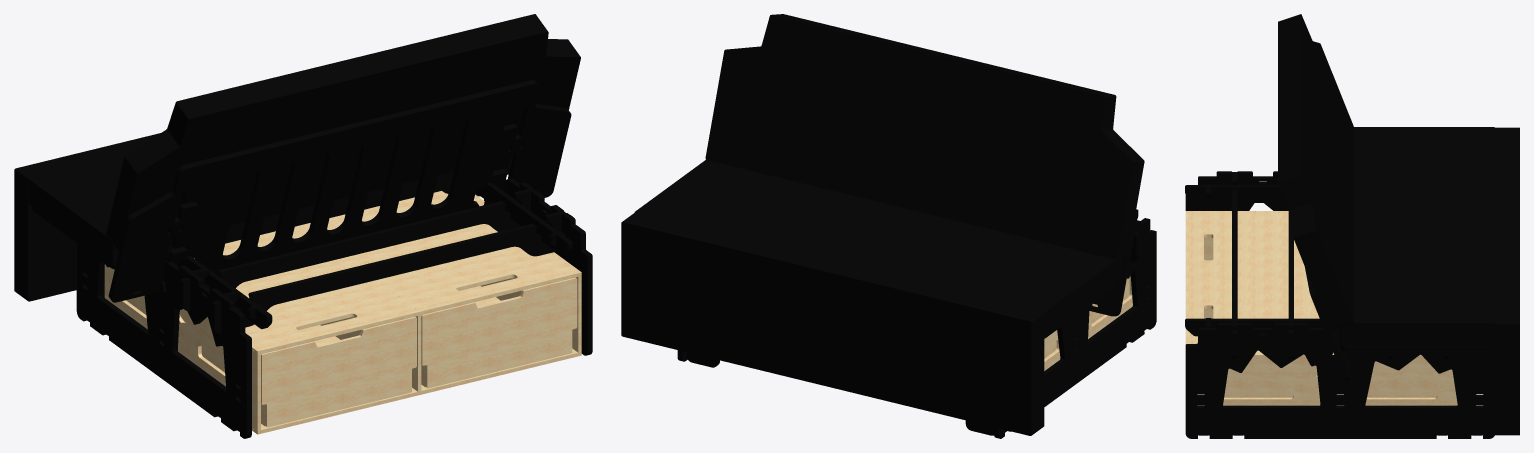
The model's file is Cuillin_expedition_assise.glb.
3 views of the same model, side by side, from view 1: azimuth 30°, elevation 25°; view 2: azimuth 150°, elevation 25°; view 3: azimuth 270°, elevation 25° (orthographic). The views are drawn at different scales.
Size of the model in its own units: 1.51 by 0.9563 by 1.08.
2 materials, 1 textured.
